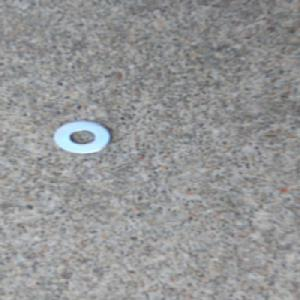Washer: (50, 119, 116, 157)
